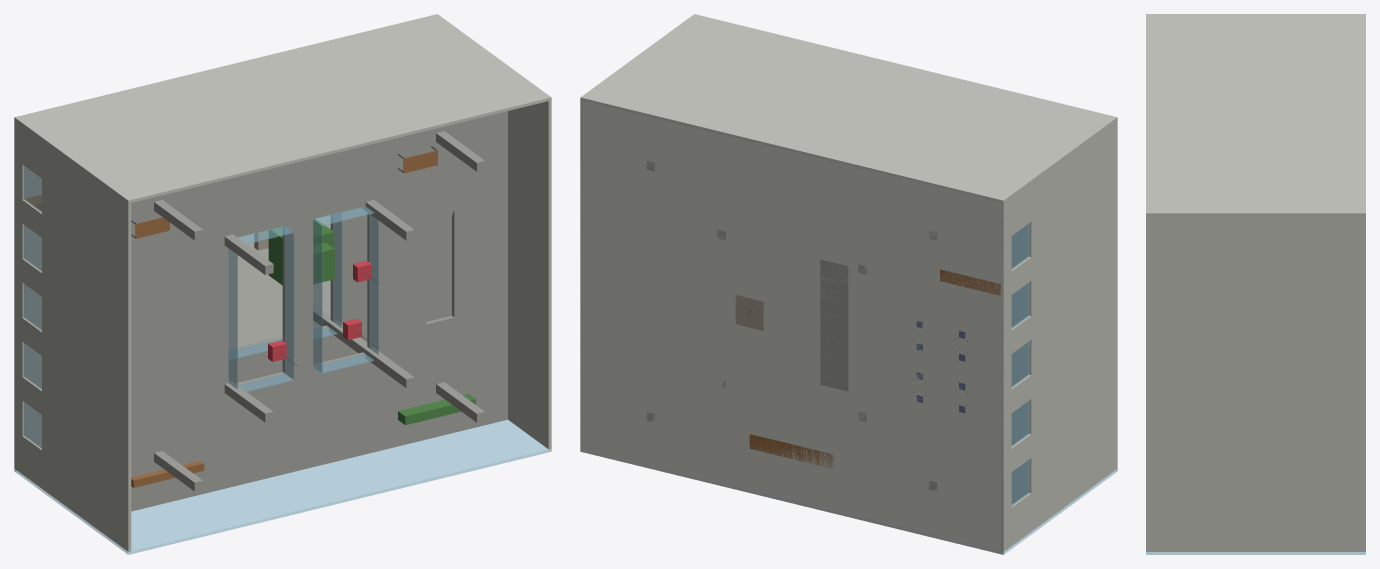
The model's file is atrium.obj.
3 views of the same model, side by side, from view 1: azimuth 30°, elevation 25°; view 2: azimuth 150°, elevation 25°; view 3: azimuth 270°, elevation 25° (orthographic). The views are drawn at different scales.
Visible parts, largest first — view 1: wall-north-end, slab-2-south, slab-2-north, facade-south-end, wall-east-end, slab-2-west, slab-2-east-b, slab-2-east-a, ground-visual-only, slab-1-east, wall-west-pier-0, bridge-deck (+30 smaller); view 2: ground-visual-only, wall-north-end, wall-west-pier-0, wall-west-end, wall-west-lintel-0, wall-west-lintel-1, wall-west-lintel-4, wall-west-lintel-2, wall-west-lintel-3, wall-west-pier-1, wall-west-pier-2, wall-west-pier-3 (+13 smaller); view 3: wall-east-end, wall-north-end, facade-south-end.
Part boxes in pixels (box(x1,y1,x2,y2)): wall-north-end: box(14, 14, 551, 203); slab-2-south: box(131, 319, 507, 511); slab-2-north: box(131, 111, 507, 263); facade-south-end: box(14, 420, 551, 554); wall-east-end: box(508, 100, 551, 449); slab-2-west: box(131, 241, 228, 410); slab-2-east-b: box(452, 171, 507, 332); slab-2-east-a: box(367, 191, 426, 350); ground-visual-only: box(14, 167, 330, 471); slab-1-east: box(330, 208, 451, 323); wall-west-pier-0: box(14, 430, 131, 551); bridge-deck: box(282, 219, 313, 373); ground-visual-only: box(580, 99, 1003, 554); wall-north-end: box(580, 14, 1117, 203); wall-west-pier-0: box(1000, 430, 1117, 551); wall-west-end: box(1000, 120, 1117, 241); wall-west-lintel-0: box(1028, 395, 1117, 493); wall-west-lintel-1: box(1028, 336, 1117, 434); wall-west-lintel-4: box(1028, 159, 1117, 256); wall-west-lintel-2: box(1028, 277, 1117, 374); wall-west-lintel-3: box(1028, 218, 1117, 315); wall-west-pier-1: box(1000, 371, 1117, 477); wall-west-pier-2: box(1000, 312, 1117, 418); wall-west-pier-3: box(1000, 253, 1117, 359); wall-east-end: box(1146, 216, 1365, 551); wall-north-end: box(1146, 14, 1365, 215); facade-south-end: box(1146, 552, 1365, 554).
Size of the model in its own units: 30 by 24 by 14.
